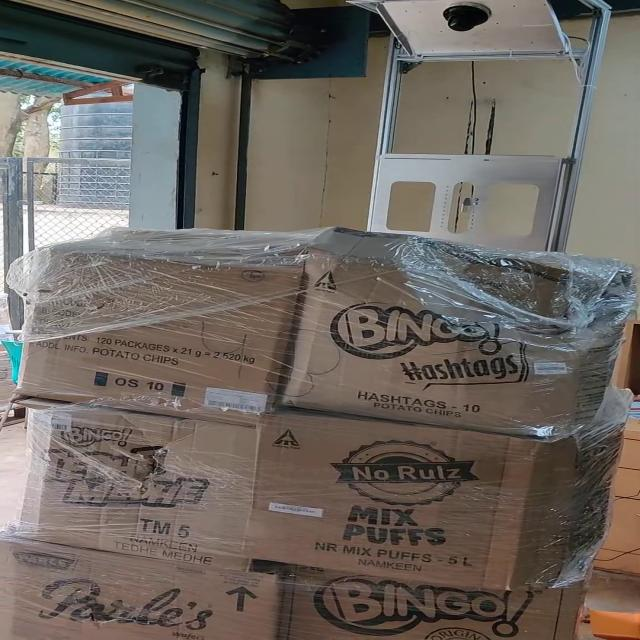squeeze: (388, 235, 637, 370)
tear: (68, 435, 175, 497)
